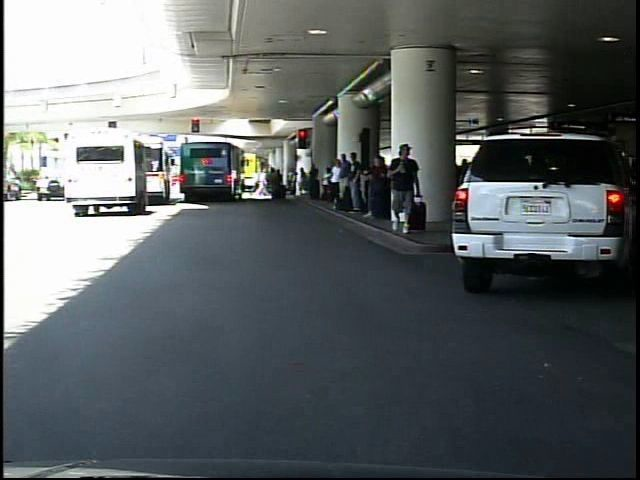person: (386, 142, 421, 238)
